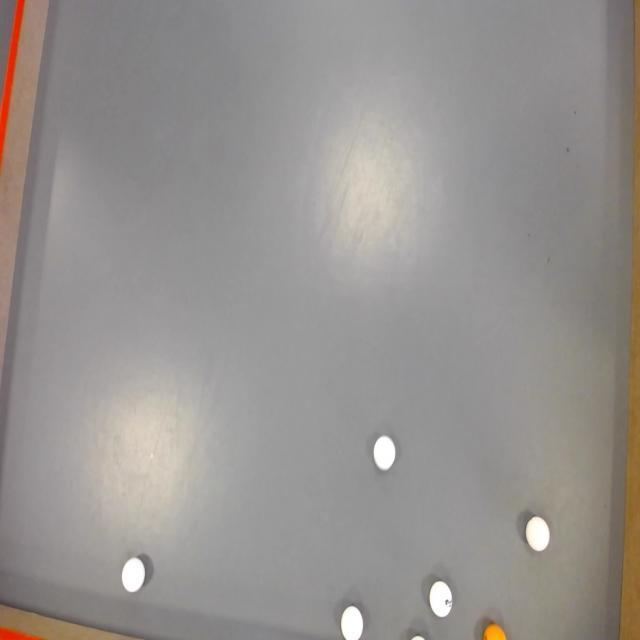orange-golf-balls: (478, 625, 509, 640)
white-golf-balls: (429, 578, 454, 621), (120, 556, 148, 594), (372, 432, 397, 474), (524, 516, 551, 554), (341, 604, 362, 640)
